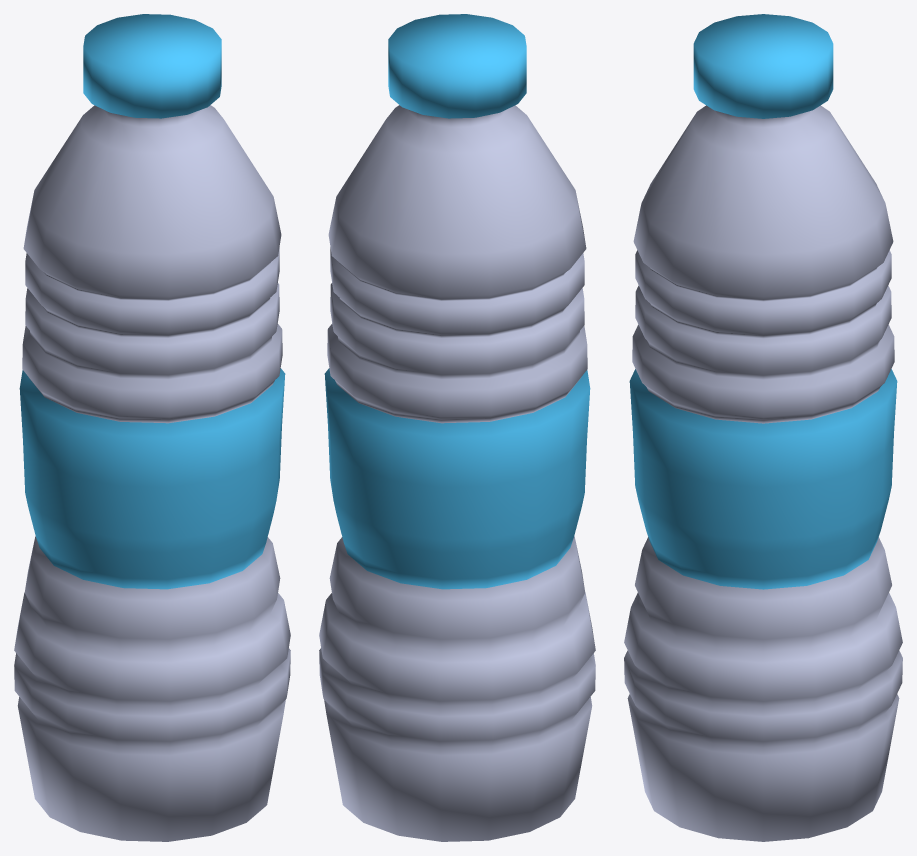
The model's file is WaterBottle.glb.
The picture shows the model from 3 angles, left to right: view 1: azimuth 30°, elevation 25°; view 2: azimuth 150°, elevation 25°; view 3: azimuth 270°, elevation 25°; orthographic projection.
Parts seen in each view (by area): view 1: Plane; view 2: Plane; view 3: Plane.
Boxes of the visible parts, x1=… form: Plane: x1=14, y1=14, x2=290, y2=841; Plane: x1=319, y1=14, x2=595, y2=841; Plane: x1=624, y1=14, x2=902, y2=841.
Bounding box in the file's own units: 0.4321 × 1.28 × 0.4321.
